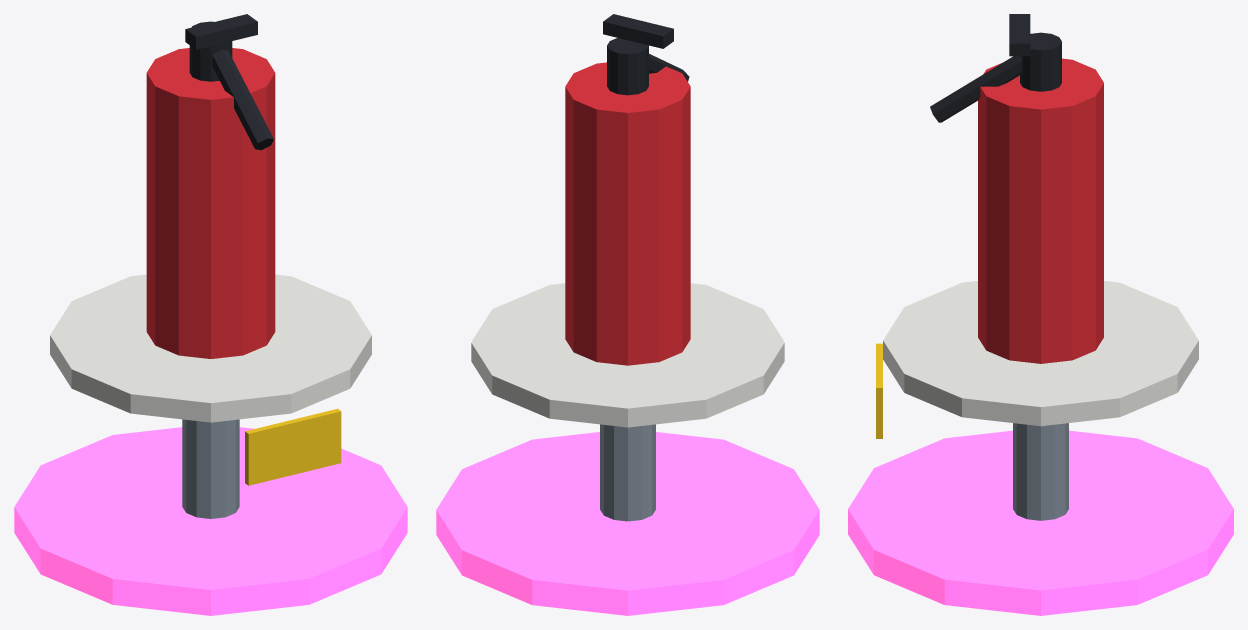
File: item-extinguisher.glb
The picture shows the model from 3 angles, left to right: view 1: azimuth 30°, elevation 25°; view 2: azimuth 150°, elevation 25°; view 3: azimuth 270°, elevation 25°; orthographic projection. The views are drawn at different scales.
Parts seen in each view (by area): view 1: item-extinguisher; view 2: item-extinguisher; view 3: item-extinguisher.
Boxes of the visible parts, x1,y1,x2,y2 form: item-extinguisher: (14,14,407,615); item-extinguisher: (436,14,819,615); item-extinguisher: (848,14,1233,615).
Size of the model in its own units: 1.1 by 1.59 by 1.1.
